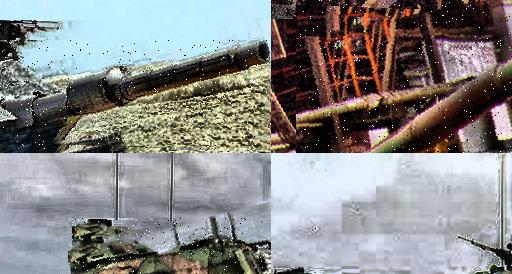tanks: (1, 42, 271, 150), (373, 62, 512, 154), (69, 219, 272, 274), (469, 241, 512, 274), (287, 268, 304, 274)
